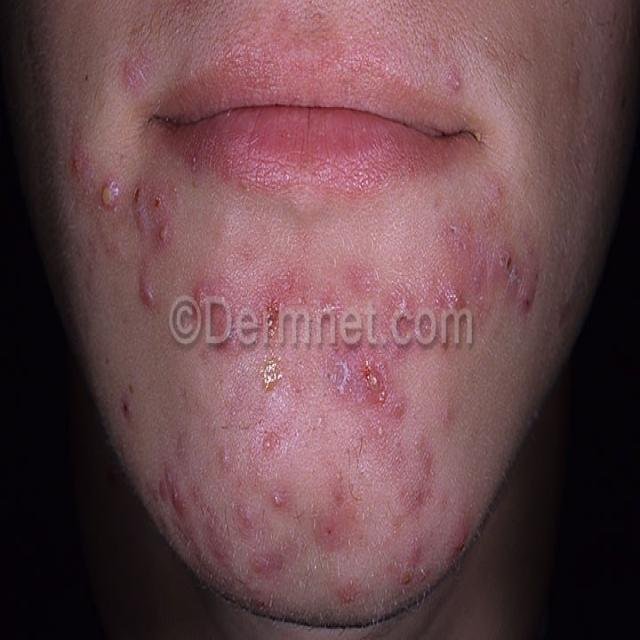Acne: (386, 433, 439, 522), (388, 536, 431, 600), (315, 480, 349, 552), (248, 534, 300, 580), (359, 347, 392, 407), (148, 182, 176, 249), (445, 507, 474, 570), (66, 122, 92, 190), (252, 418, 290, 463), (155, 459, 184, 515), (518, 251, 541, 315), (98, 172, 126, 218), (121, 52, 148, 98), (493, 244, 521, 284), (135, 268, 161, 311), (331, 575, 366, 606), (212, 436, 237, 479), (266, 479, 291, 520)
